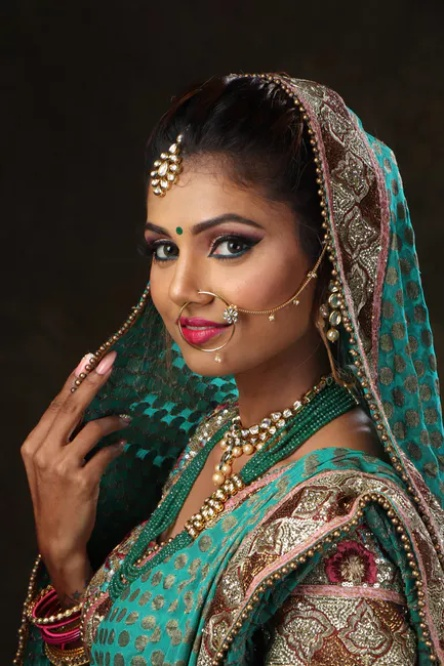face: (146, 151, 311, 372)
